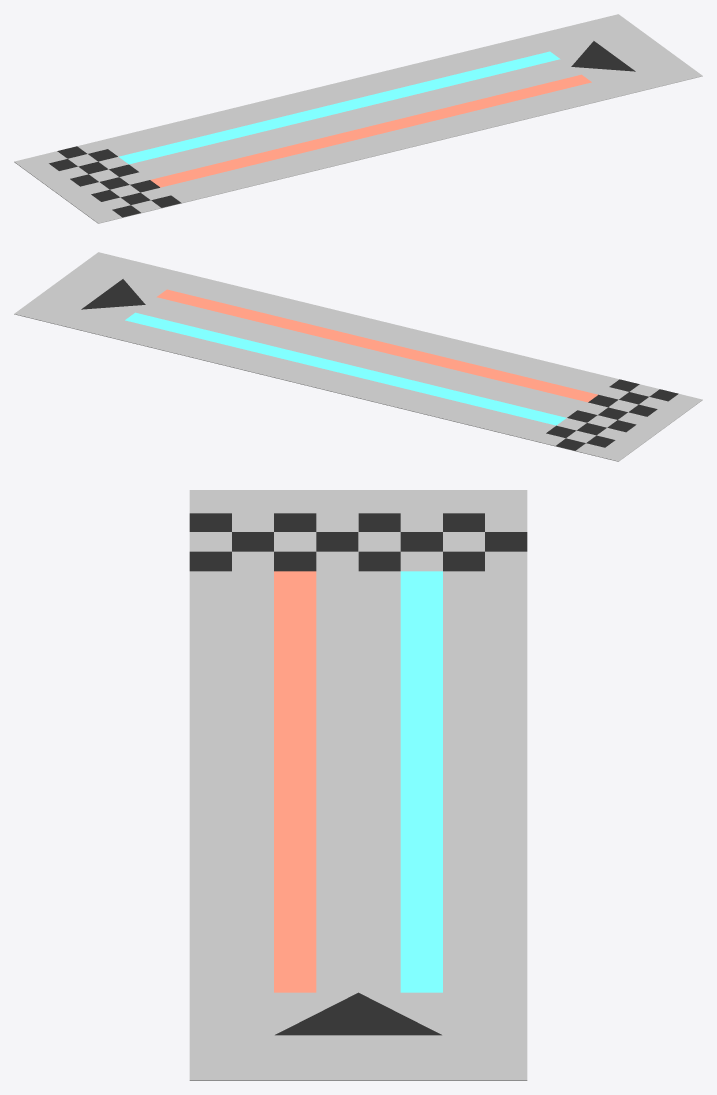
File: wall.glb
The picture shows the model from 3 angles, top to bottom: view 1: azimuth 30°, elevation 25°; view 2: azimuth 150°, elevation 25°; view 3: azimuth 270°, elevation 25°; orthographic projection. The views are drawn at different scales.
Visible parts, largest first — view 1: Piste; view 2: Piste; view 3: Piste.
Boxes of the visible parts, bbox=[...] form: Piste: bbox=[14, 14, 702, 223]; Piste: bbox=[14, 252, 702, 461]; Piste: bbox=[189, 490, 527, 1080].
Size of the model in its own units: 13.89 by 0.00981 by 3.36.
